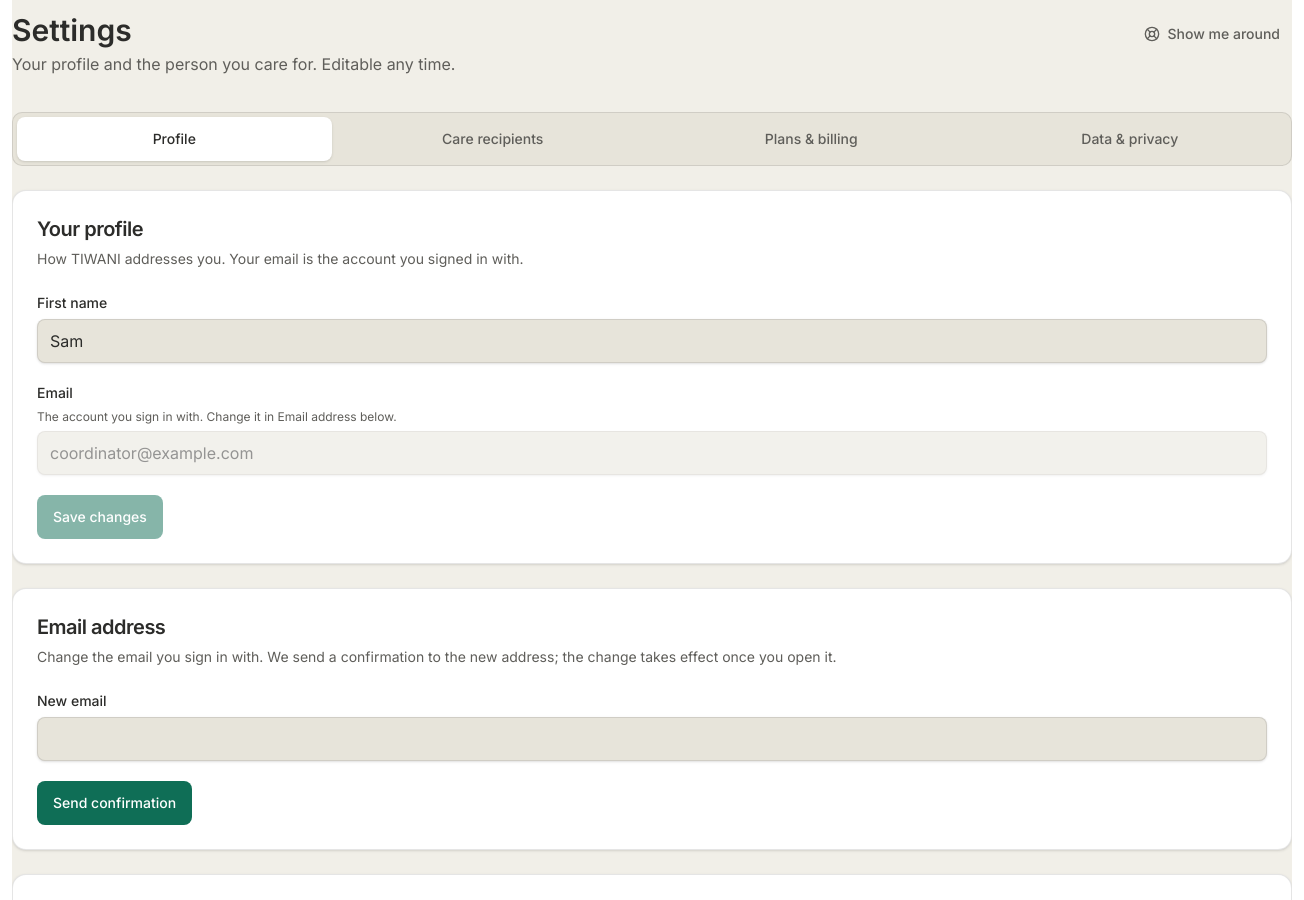
Test: SettingsScreen › saves only the changed first name via PUT /profile
The image size is (1304, 900).
Replace the text in the field showing "Sam" with "Samantha" at [652, 341], box [37,319,1267,363]
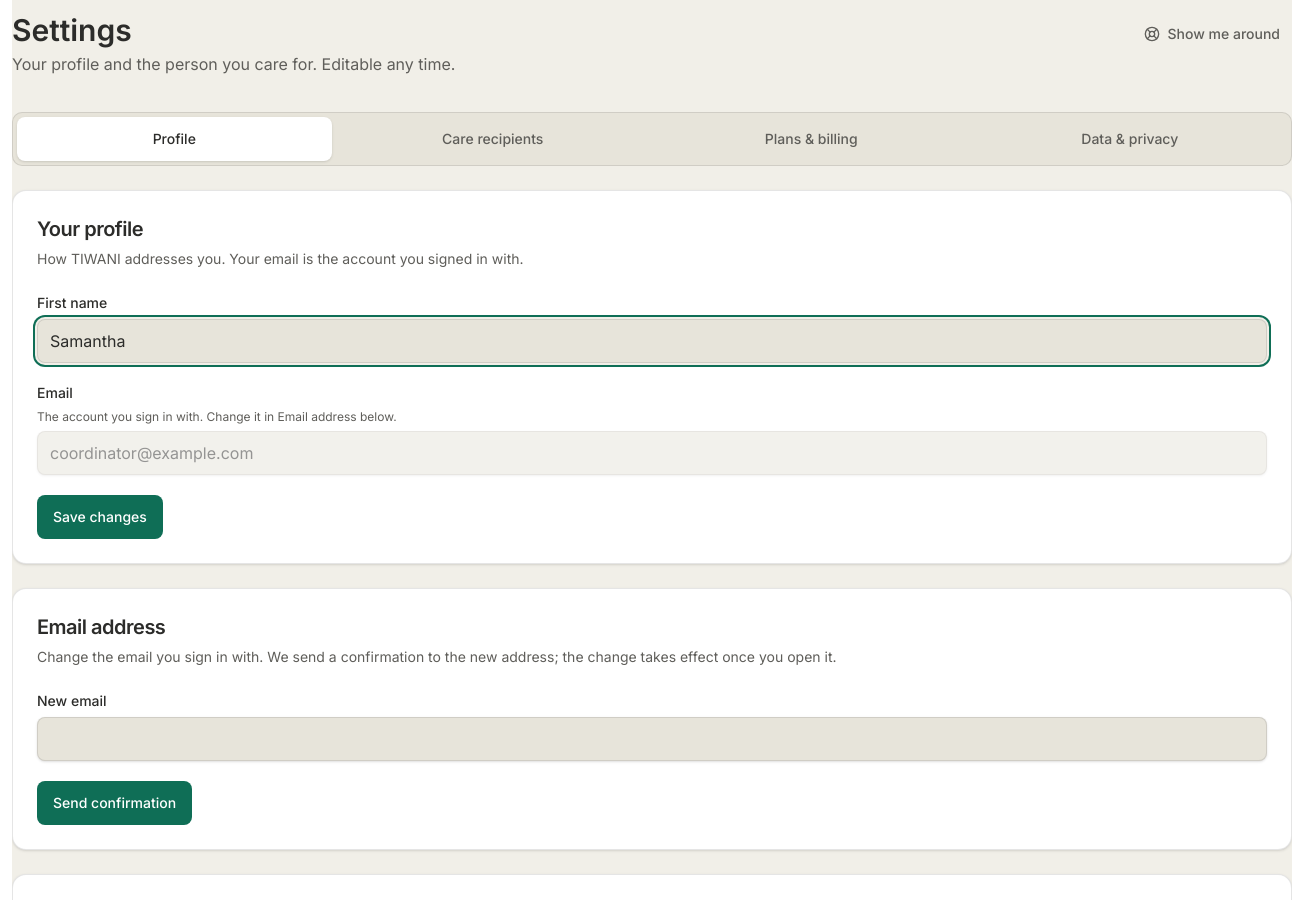
# Scope to the profile card's own Save button.
Click the button "Save changes" at [100, 517], box [37,495,163,539]
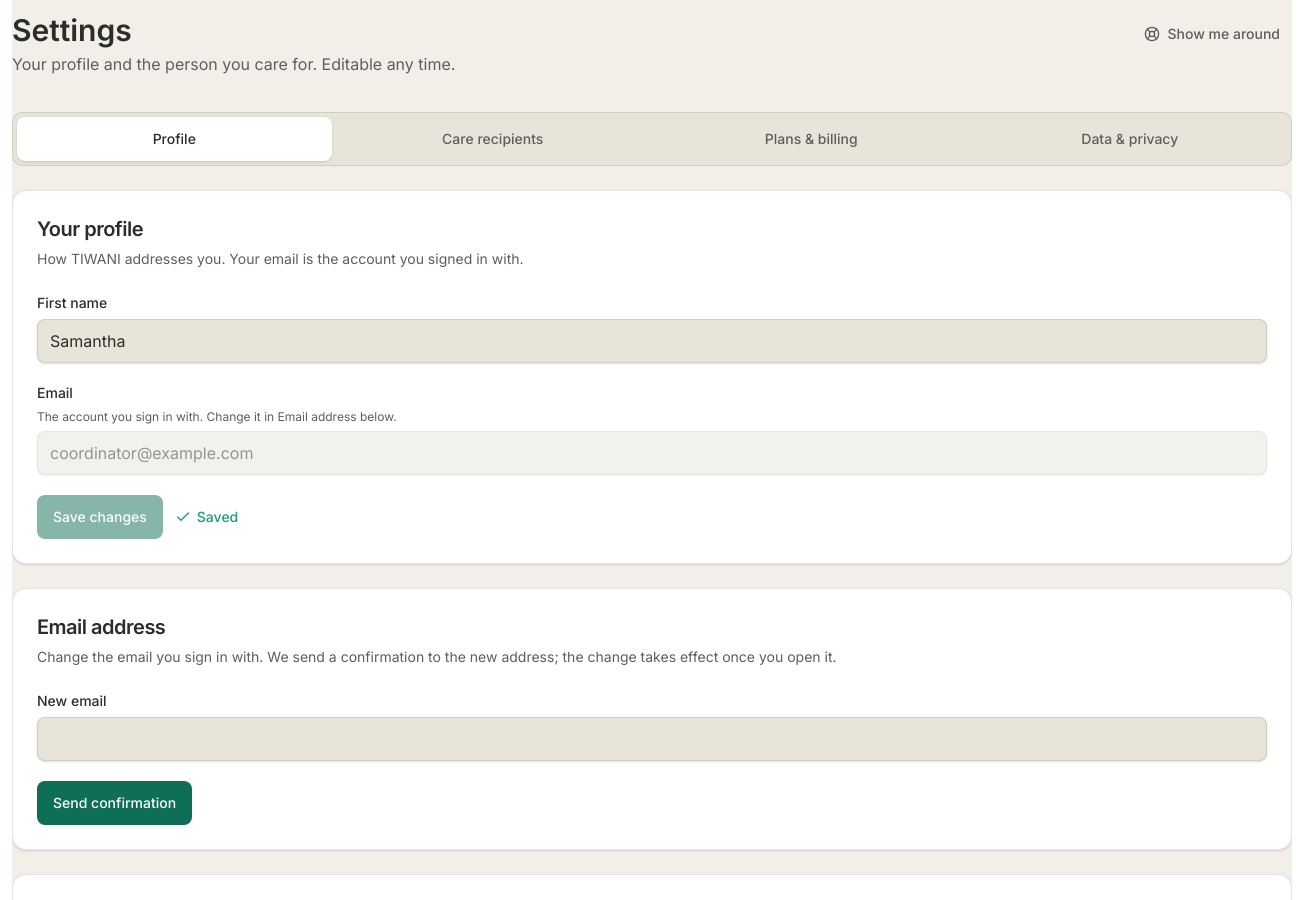
Now the text "Saved" is shown, box [175,507,238,527]
